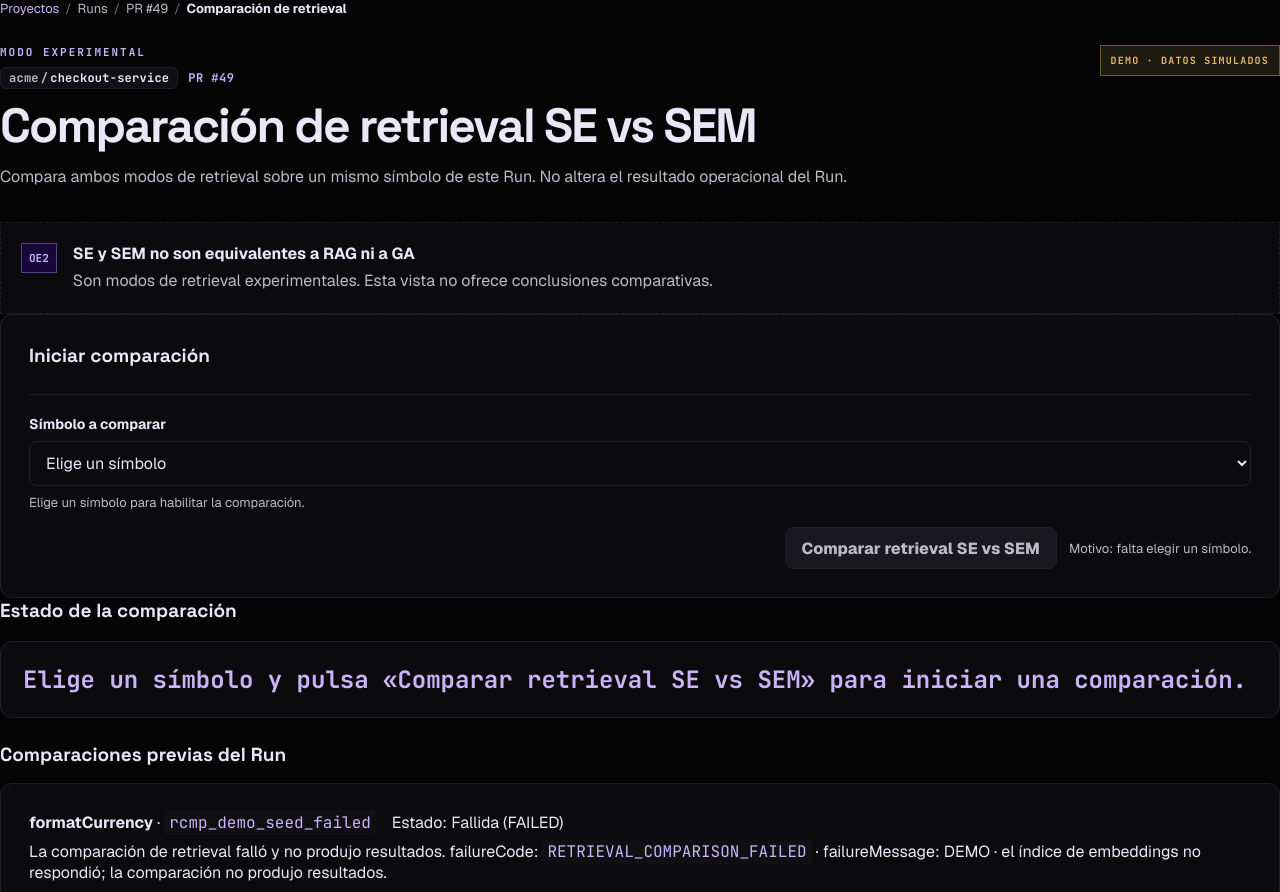
Test: RetrievalComparisonPage (WI-CONSOLE-014, Corte B) › un FAILED muestra failureCode y failureMessage literales en role=alert y no pide resultados
Select "formatCurrency · FUNCTION · src/shared/money.ts" in the dropdown labelled "Símbolo a comparar": (640, 464) [29,441,1251,486]
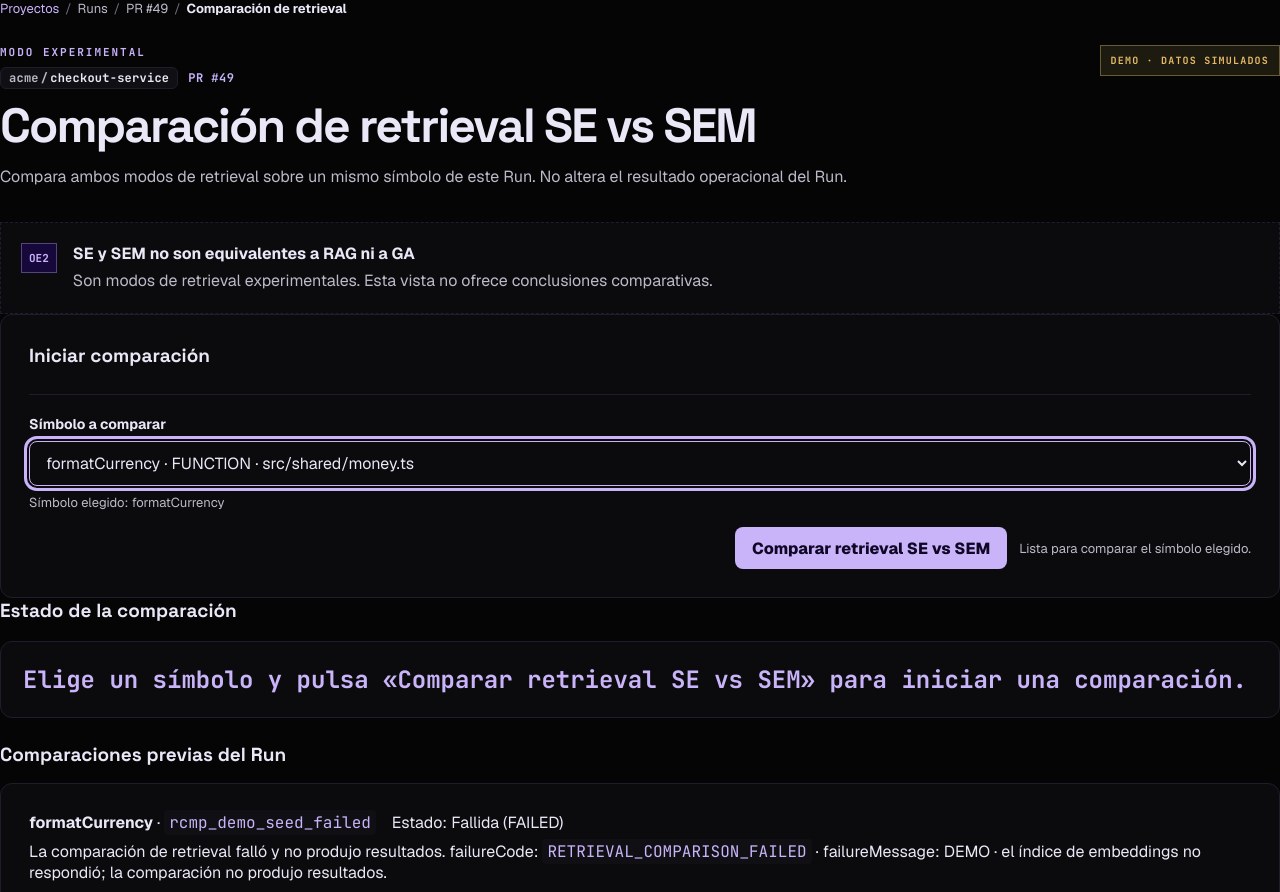
Click the button "Comparar retrieval SE vs SEM": (871, 548) [735,527,1007,569]
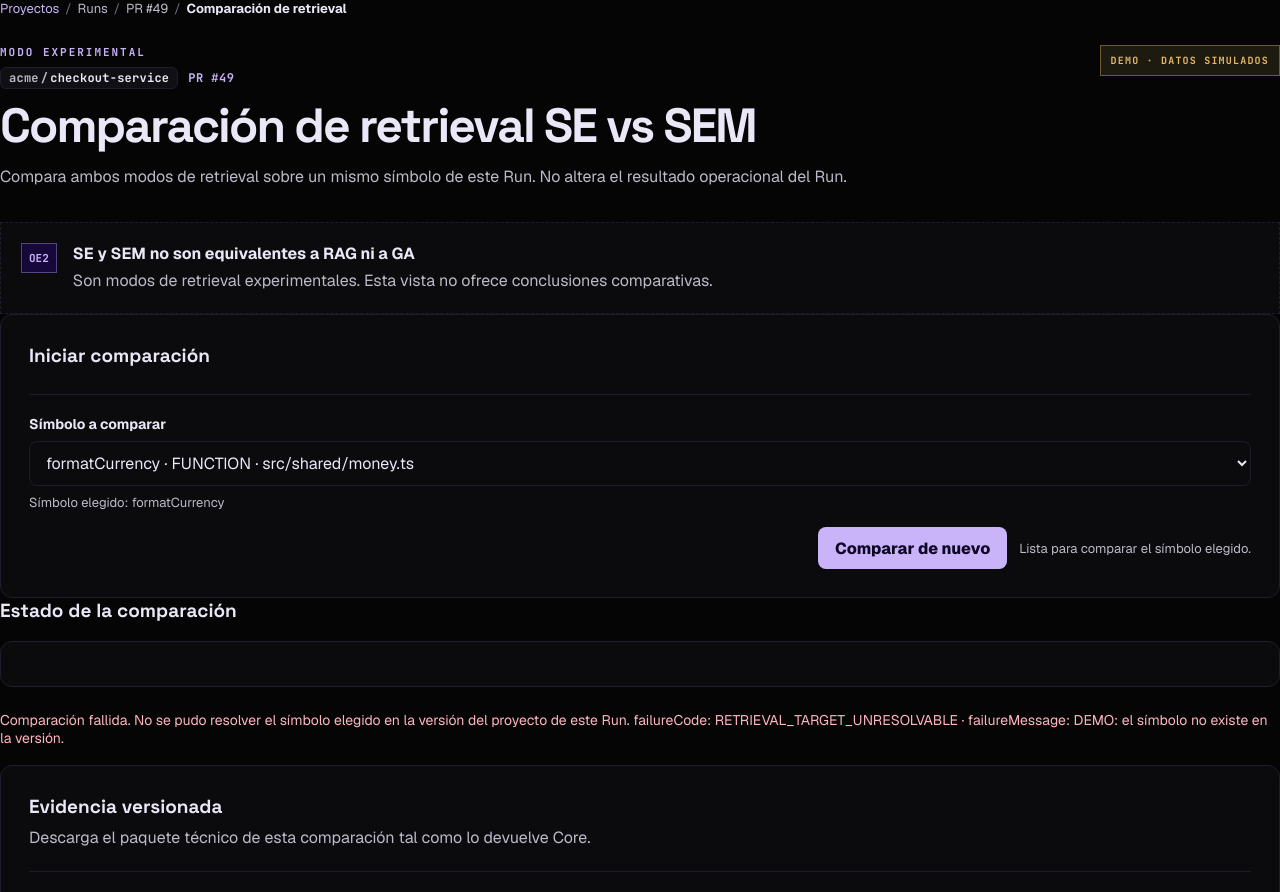
Now the 2nd message shows "RETRIEVAL_TARGET_UNRESOLVABLE", box [0,711,1268,747]
Now the 2nd message shows "No se pudo resolver el símbolo elegido", box [0,711,1268,747]
Now the 2nd message shows "DEMO: el símbolo no existe en la versión.", box [0,711,1268,747]
